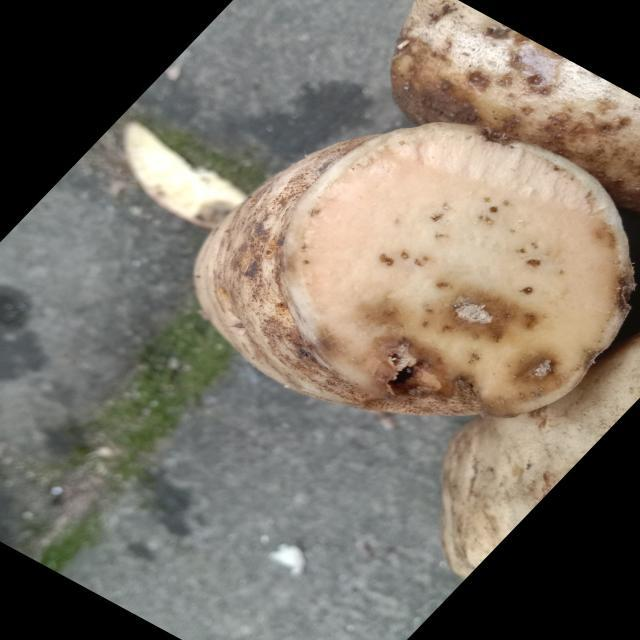Sick Sweet Potato_Tuber Rot: (282, 122, 633, 416)
